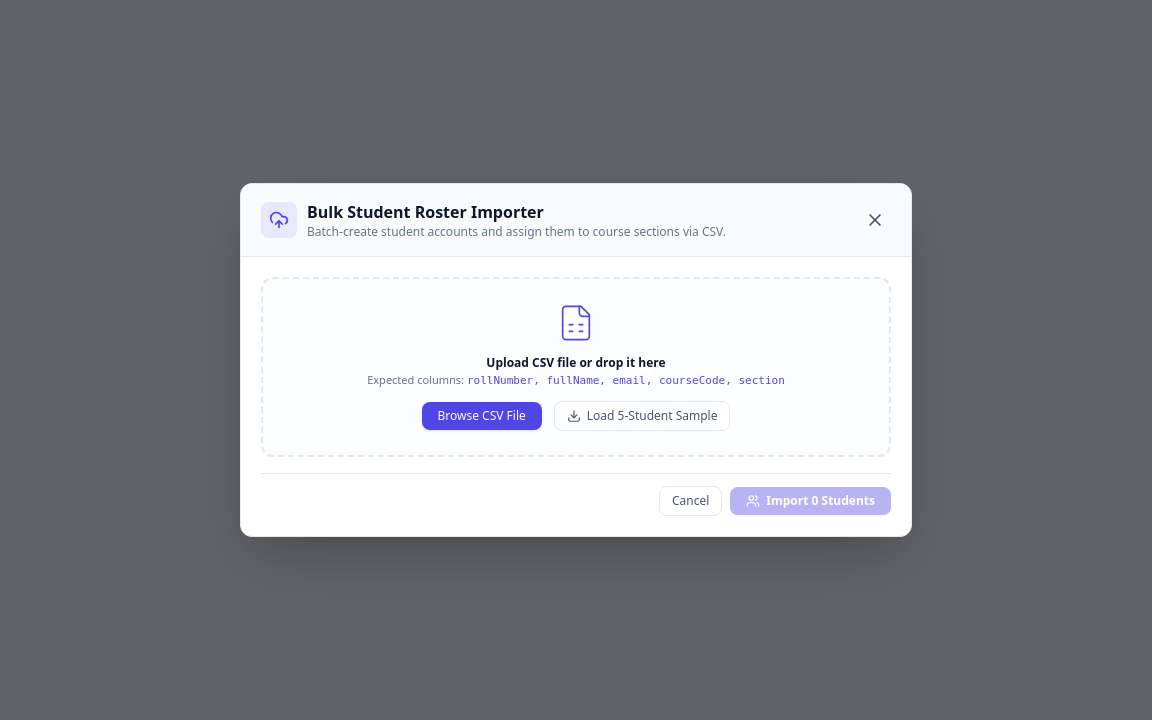
Scenario: Milestone 3: Admin Console & DIP Image Inspector Suite › opens CsvImportModal and parses student records
Expected: the heading "Bulk Student Roster Importer" is shown, [307,201,544,223]
Expected: the text "Load 5-Student Sample" is shown, [587,408,718,424]
Click Load Sample
Click the button "Load 5-Student Sample" at coordinates (642, 416), box [554,401,730,431]
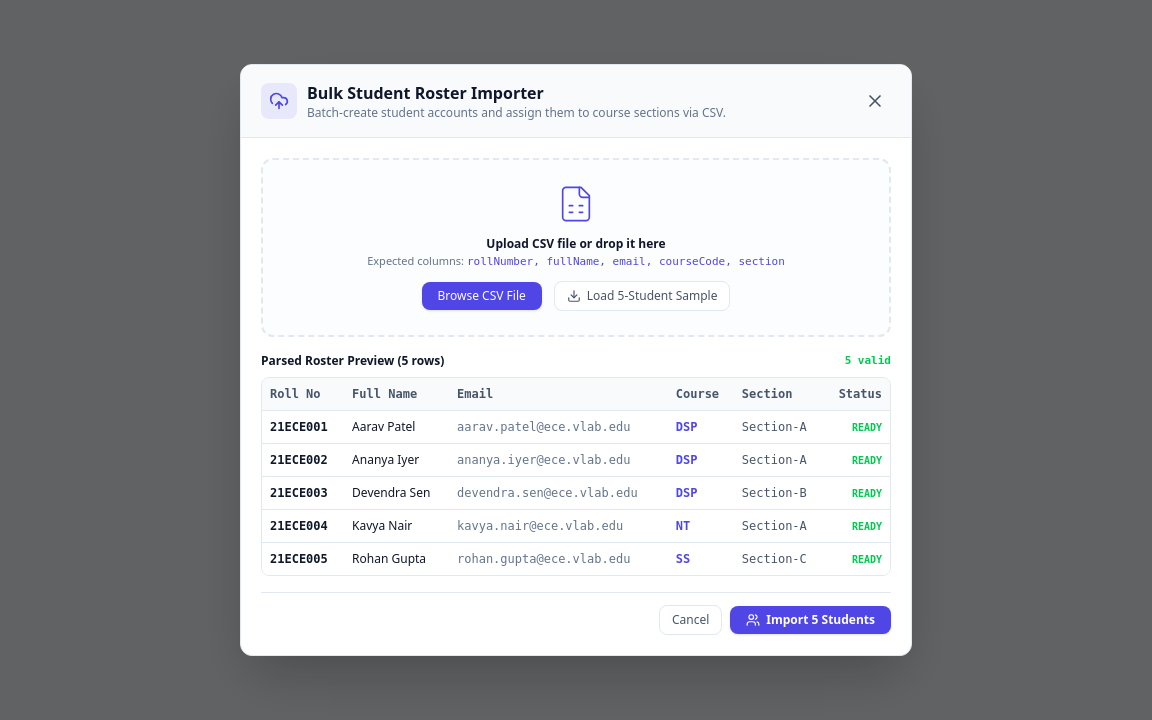
Expected: the text "Parsed Roster Preview (5 rows)" is shown, [261,353,444,369]
Expected: the text "Aarav Patel" is shown, [344,411,449,444]
Expected: the text "21ECE001" is shown, [262,411,344,444]
